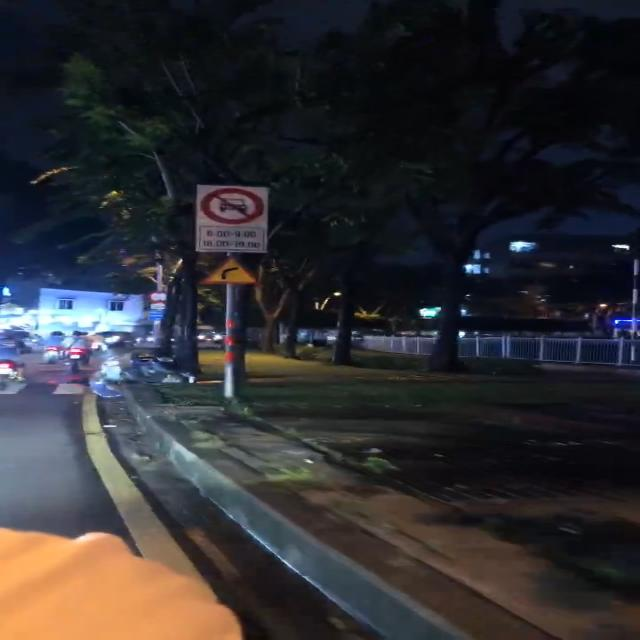Bien bao cam xe oto: (196, 182, 268, 228)
Bien bao cho ngoat nguy hiem: (195, 255, 265, 289)
